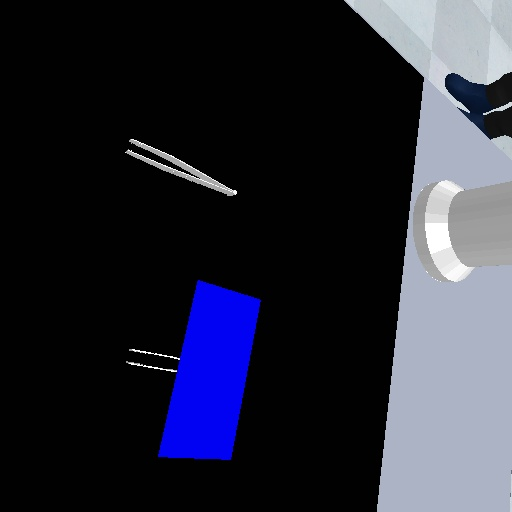pinza: (120, 135, 241, 199), (124, 344, 182, 374)
